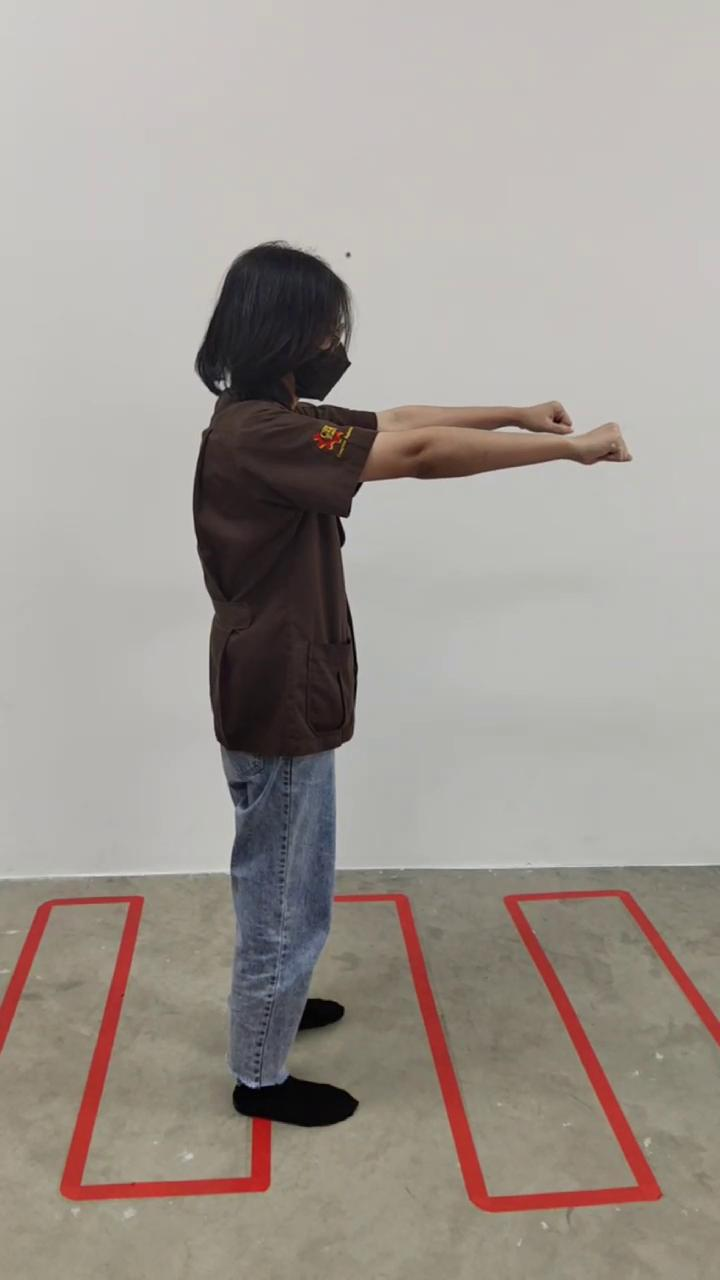squat up: (192, 245, 630, 1131)
